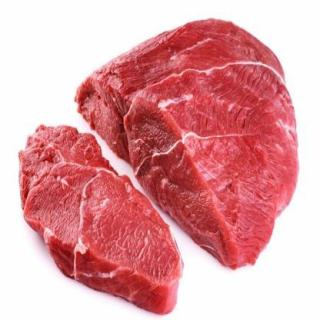Daging Sapi: (77, 17, 300, 269), (20, 124, 184, 316)
